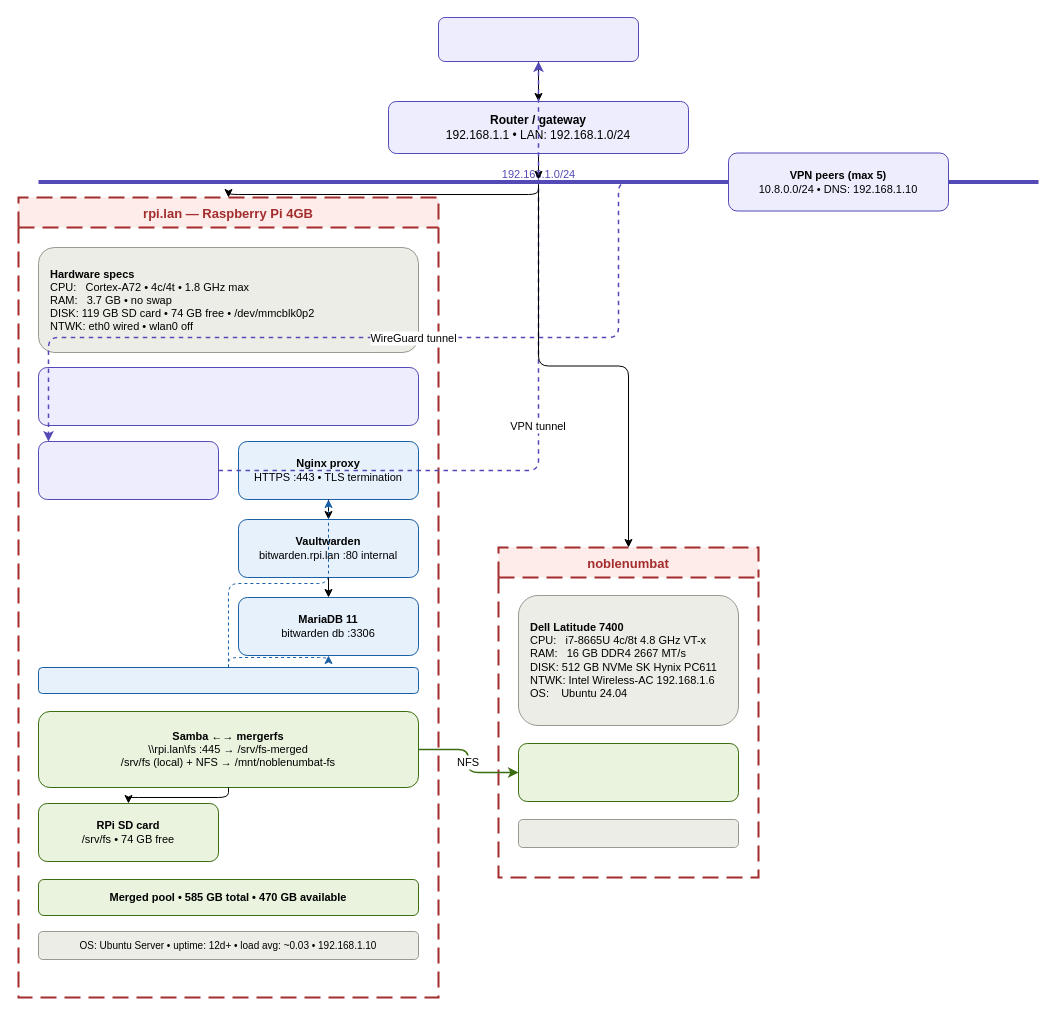
Some shapes in this 1057 by 1016 pixel diagram are drawn without their labels. The shapes that lost their labels are listed below. From the top down, each one's box as (x1, y1, x2, y2) in pixels, then its label:
(438, 16, 638, 62): Internet
(38, 366, 418, 426): Pi-hole DNS :53 • DHCP • host mode • upstream: 192.168.1.1 + 1.1.1.1
(38, 440, 218, 500): WireGuard vpn.rpi.lan :51820/udp
(38, 666, 418, 694): docker network: internal bridge
(518, 742, 738, 802): NFS server /srv/fs-ext • 397 GB free
(518, 818, 738, 848): WiFi only • suspend disabled
